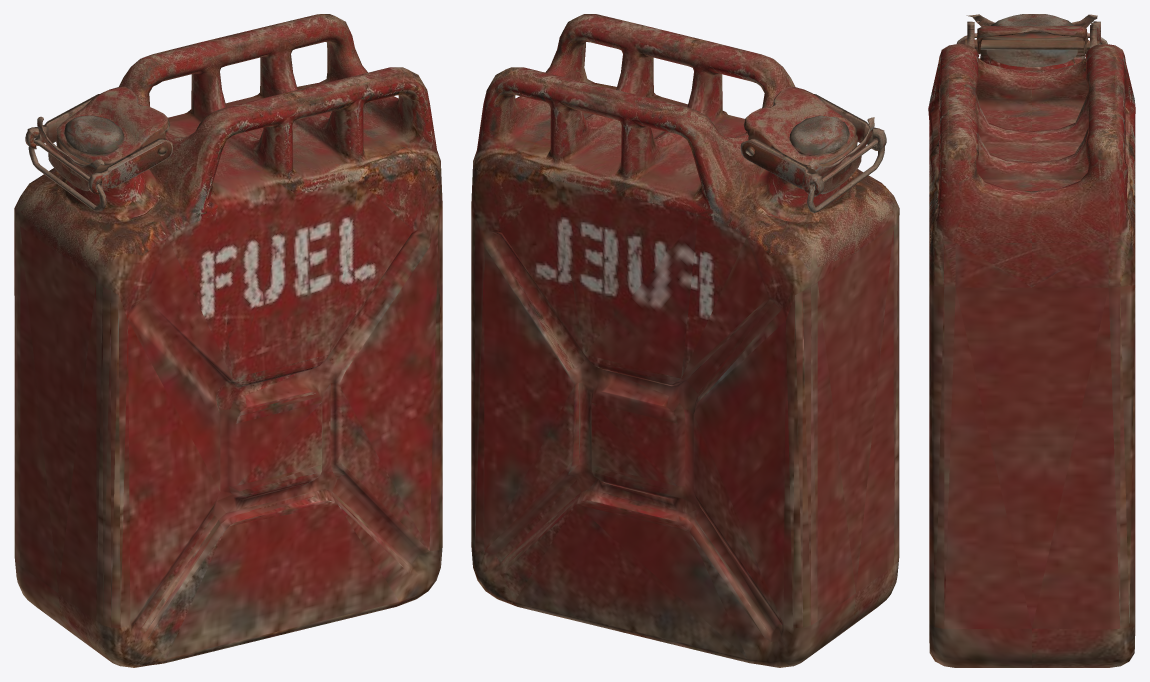
File: train-fuel-can.glb
The picture shows the model from 3 angles, left to right: view 1: azimuth 30°, elevation 25°; view 2: azimuth 150°, elevation 25°; view 3: azimuth 270°, elevation 25°; orthographic projection.
Parts seen in each view (by area): view 1: train-fuel-can; view 2: train-fuel-can; view 3: train-fuel-can.
Boxes of the visible parts, box(x1,y1,x2,y2) form: train-fuel-can: box(14, 14, 442, 667); train-fuel-can: box(471, 14, 899, 667); train-fuel-can: box(928, 14, 1135, 667).
Size of the model in its own units: 0.3157 by 0.47 by 0.165.
1 material, 1 textured.
